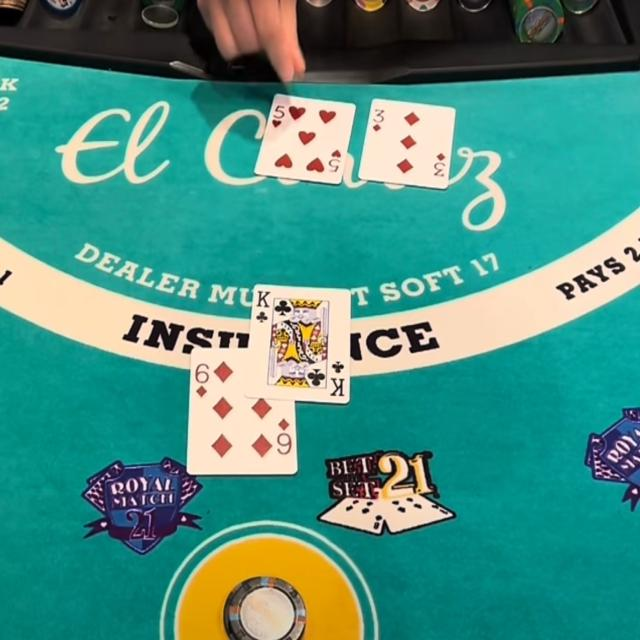3: (371, 106, 386, 124)
5: (272, 102, 286, 119)
6: (193, 361, 211, 385)
K: (255, 287, 271, 309)
